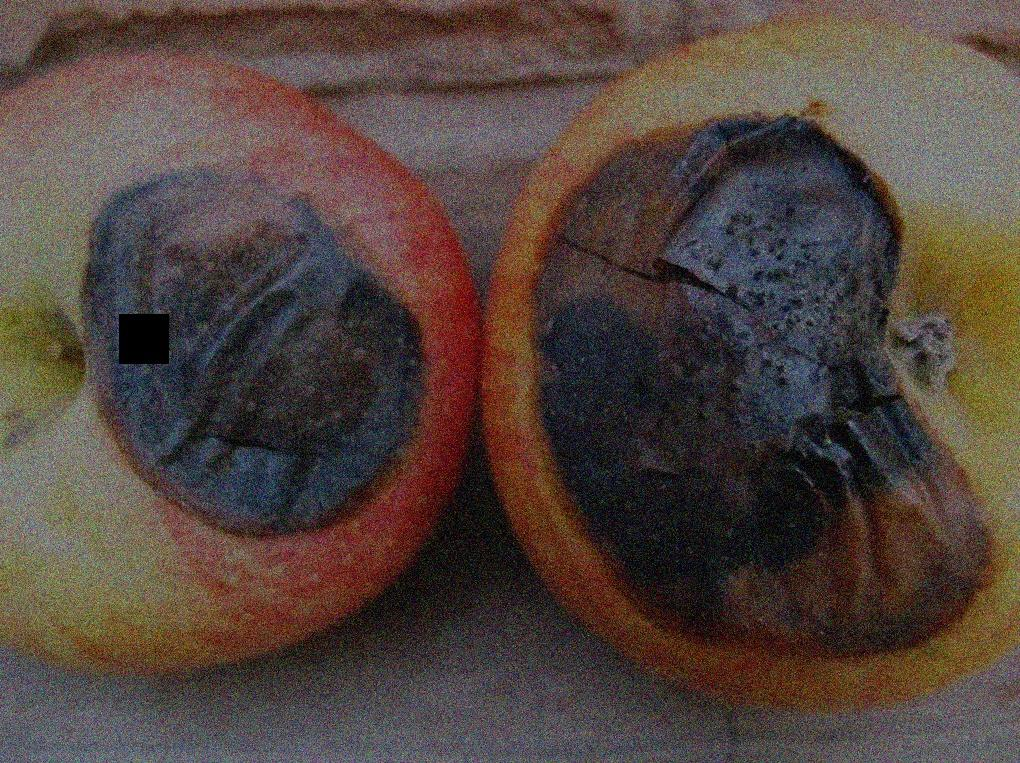rotten apple: (477, 22, 1020, 723), (1, 33, 479, 701)
